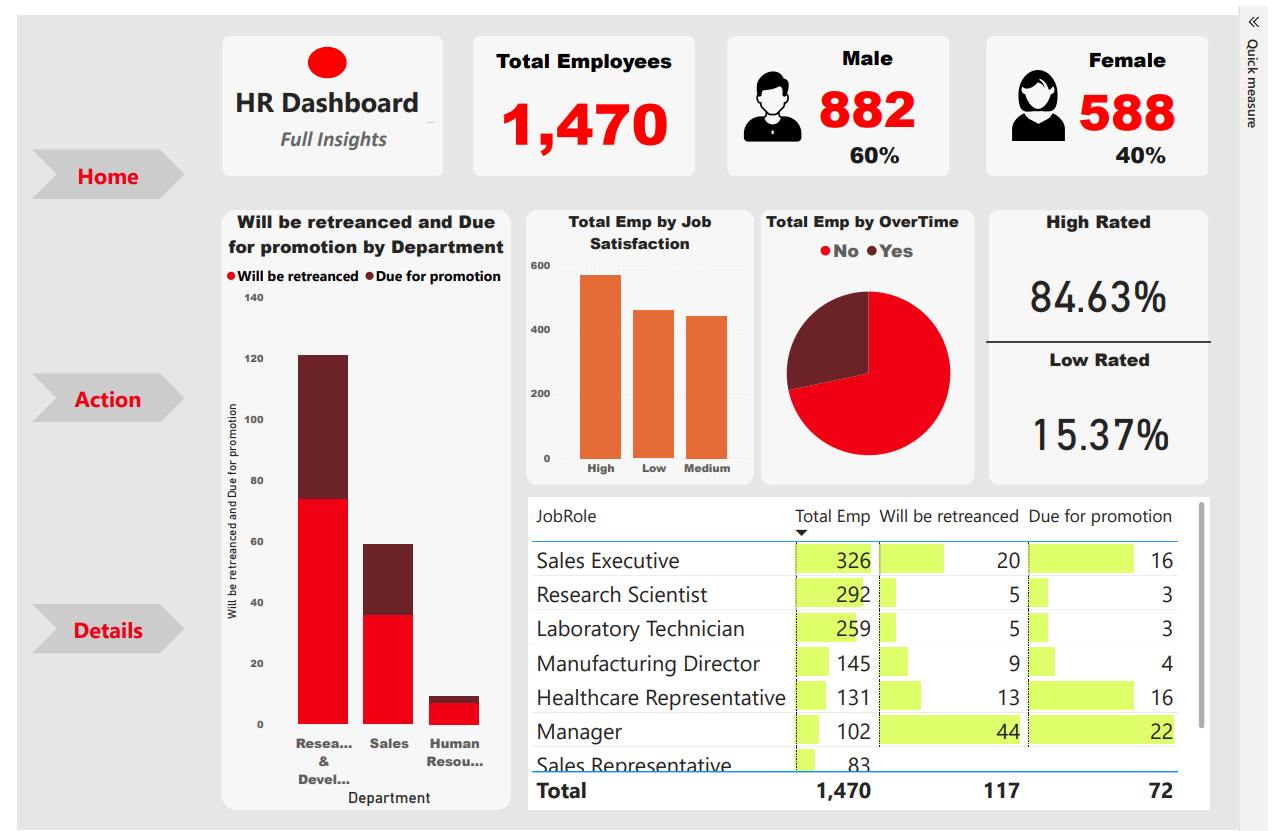

The dashboard page shown, as its layout file describes it:
{"tool":"powerbi","page":{"name":"Home","canvas":[1500,1000],"ordinal":0},"visuals":[{"type":"shape","box":[251.7,25,271.7,171.7],"z":0},{"type":"textbox","title":"HR Dashboard","box":[245,81.7,271.7,55],"z":1000},{"type":"textbox","title":"Full Insights","box":[310,135,158.3,35],"z":2000},{"type":"shape","box":[356.7,38.3,48.3,38.3],"z":3000},{"type":"shape","box":[560,25,273.3,171.7],"z":4000},{"type":"card","title":"Total Employees","fields":{"Values":["Measures (2).Total Emp"]},"box":[560,38.3,273.3,145],"z":5000},{"type":"shape","box":[871.7,25,273.3,171.7],"z":6000},{"type":"shape","box":[1190,25,273.3,171.7],"z":7000},{"type":"card","title":"Male","fields":{"Values":["Measures (2).Male"]},"box":[966.7,35,155,118.3],"z":8000},{"type":"card","title":"Female","fields":{"Values":["Measures (2).Female"]},"box":[1226.5,36.9,273.1,119],"z":9000},{"type":"card","title":"Male","fields":{"Values":["Measures (2).% male"]},"box":[961.7,126.7,183.3,90],"z":10000},{"type":"card","title":"Male","fields":{"Values":["Measures (2).% Female"]},"box":[1289.4,126.9,182.5,90.4],"z":11000},{"type":"image","box":[880,60,95,103.3],"z":12000},{"type":"image","box":[1206.4,58.6,95.5,102.2],"z":13000},{"type":"shape","box":[244.6,217.8,315,752.3],"z":14000},{"type":"card","title":"Not Due for promotion","fields":{"Values":["Measures (2).Not due"]},"box":[266.4,311.7,271.4,139.1],"z":15000},{"type":"card","title":"Due for promotion","fields":{"Values":["Measures (2).Due for promotion"]},"box":[266.4,656.8,271.4,159.2],"z":16000},{"type":"card","fields":{"Values":["Hr Analytics.%Not due"]},"box":[288.2,420.6,249.7,110.6],"z":17000},{"type":"card","fields":{"Values":["Measures (2).%Due for promotion"]},"box":[288.2,782.5,249.7,110.6],"z":18000},{"type":"shape","box":[244.6,594.8,315,13.4],"z":19000},{"type":"shape","box":[589.8,217.8,385.4,405.5],"z":20000},{"type":"barChart","title":"Service Year","fields":{"Category":["Hr Analytics.Service Year"],"Y":["All Measure.Total Emp"]},"box":[589.8,246.3,372,350.2],"z":21000},{"type":"shape","box":[589.8,636.7,385.4,333.4],"z":22000},{"type":"columnChart","title":"Job levels","fields":{"Category":["Hr Analytics.Job levels"],"Y":["All Measure.Total Emp"]},"box":[589.8,636.7,372,333.4],"z":23000},{"type":"shape","box":[981.7,218.3,273.3,171.7],"z":24000},{"type":"shape","box":[1271.7,216.7,200,171.7],"z":25000},{"type":"card","title":"On Services","fields":{"Values":["All Measure.On Service"]},"box":[981.7,216.7,273.3,118.3],"z":26000},{"type":"card","title":"Retreanch","fields":{"Values":["All Measure.Will be retreanched"]},"box":[1261.7,216.7,210,118.3],"z":27000},{"type":"card","title":"Male","fields":{"Values":["All Measure.% On Servie"]},"box":[1030,311.7,183.3,90],"z":28000},{"type":"card","title":"Male","fields":{"Values":["All Measure.% Retreanch"]},"box":[1280,311.7,183.3,90],"z":29000},{"type":"shape","box":[981.7,421.7,490,548.3],"z":30000},{"type":"donutChart","title":" Distance Status","fields":{"Category":["Hr Analytics.Distance Status"],"Y":["All Measure.Total Emp"]},"box":[988.3,435,478.3,498.3],"z":31000},{"type":"shape","box":[18.4,164.2,187.7,60.3],"z":32000},{"type":"shape","box":[18.4,439,187.7,60.3],"z":33000},{"type":"shape","box":[18.4,722.2,187.7,60.3],"z":34000}]}

Visuals, with their boxes on the page's 1500x1000 design canvas (x1, y1, x2, y2). These are canvas units, not pixel positions in the 1286x831 screenshot, which may show the page scaled, cropped or inside an application window:
shape: {"left": 252, "top": 25, "right": 523, "bottom": 197}
"HR Dashboard" textbox: {"left": 245, "top": 82, "right": 517, "bottom": 137}
"Full Insights" textbox: {"left": 310, "top": 135, "right": 468, "bottom": 170}
shape: {"left": 357, "top": 38, "right": 405, "bottom": 77}
shape: {"left": 560, "top": 25, "right": 833, "bottom": 197}
"Total Employees" card: {"left": 560, "top": 38, "right": 833, "bottom": 183}
shape: {"left": 872, "top": 25, "right": 1145, "bottom": 197}
shape: {"left": 1190, "top": 25, "right": 1463, "bottom": 197}
"Male" card: {"left": 967, "top": 35, "right": 1122, "bottom": 153}
"Female" card: {"left": 1226, "top": 37, "right": 1500, "bottom": 156}
"Male" card: {"left": 962, "top": 127, "right": 1145, "bottom": 217}
"Male" card: {"left": 1289, "top": 127, "right": 1472, "bottom": 217}
image: {"left": 880, "top": 60, "right": 975, "bottom": 163}
image: {"left": 1206, "top": 59, "right": 1302, "bottom": 161}
shape: {"left": 245, "top": 218, "right": 560, "bottom": 970}
"Not Due for promotion" card: {"left": 266, "top": 312, "right": 538, "bottom": 451}
"Due for promotion" card: {"left": 266, "top": 657, "right": 538, "bottom": 816}
card - Hr Analytics.%Not due: {"left": 288, "top": 421, "right": 538, "bottom": 531}
card - Measures (2).%Due for promotion: {"left": 288, "top": 782, "right": 538, "bottom": 893}
shape: {"left": 245, "top": 595, "right": 560, "bottom": 608}
shape: {"left": 590, "top": 218, "right": 975, "bottom": 623}
"Service Year" barChart: {"left": 590, "top": 246, "right": 962, "bottom": 596}
shape: {"left": 590, "top": 637, "right": 975, "bottom": 970}
"Job levels" columnChart: {"left": 590, "top": 637, "right": 962, "bottom": 970}
shape: {"left": 982, "top": 218, "right": 1255, "bottom": 390}
shape: {"left": 1272, "top": 217, "right": 1472, "bottom": 388}
"On Services" card: {"left": 982, "top": 217, "right": 1255, "bottom": 335}
"Retreanch" card: {"left": 1262, "top": 217, "right": 1472, "bottom": 335}
"Male" card: {"left": 1030, "top": 312, "right": 1213, "bottom": 402}
"Male" card: {"left": 1280, "top": 312, "right": 1463, "bottom": 402}
shape: {"left": 982, "top": 422, "right": 1472, "bottom": 970}
" Distance Status" donutChart: {"left": 988, "top": 435, "right": 1467, "bottom": 933}
shape: {"left": 18, "top": 164, "right": 206, "bottom": 224}
shape: {"left": 18, "top": 439, "right": 206, "bottom": 499}
shape: {"left": 18, "top": 722, "right": 206, "bottom": 782}
